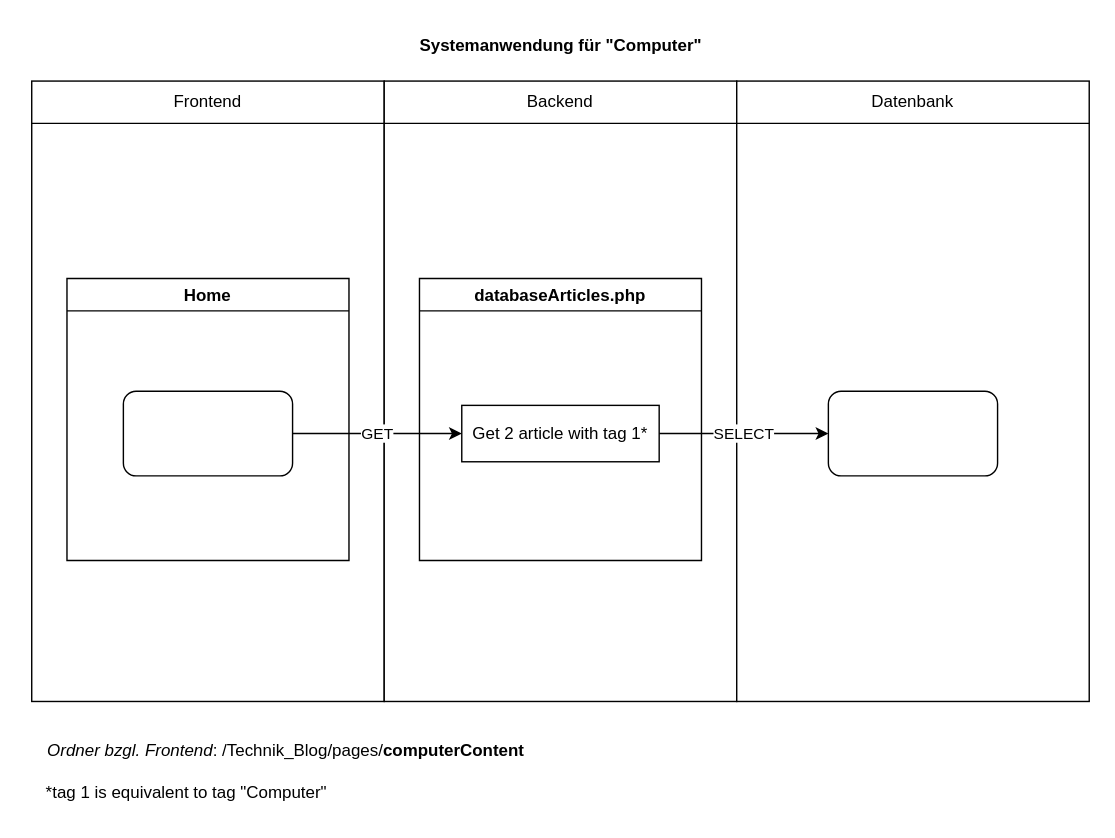
Some shapes in this 1115 by 838 pixel diagram are drawn without their labels. The shapes that lost their labels are listed below. From the top down, each one's box as (x1, y1, x2, y2) in pixels, then its label:
(122, 390, 293, 476): Articles
(827, 390, 998, 476): database Tabelle
